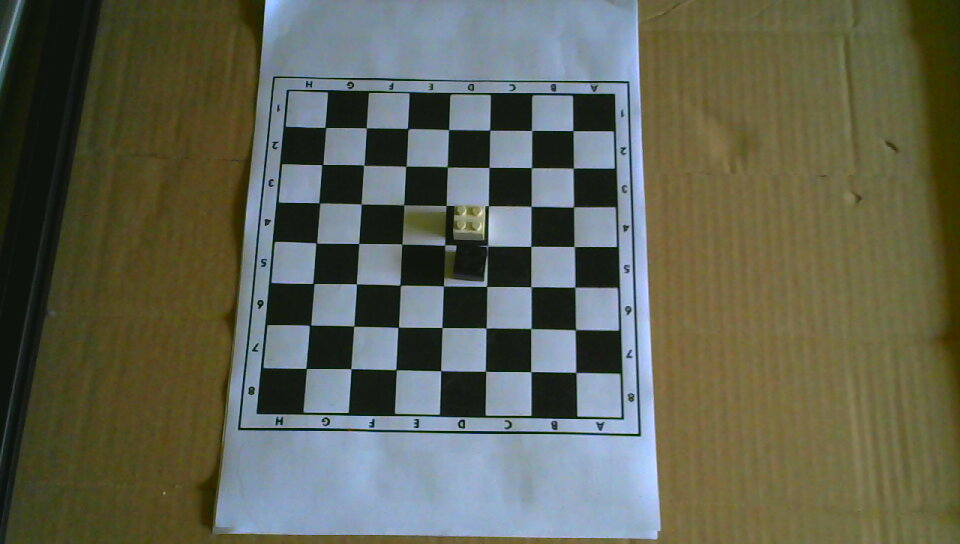bp: (451, 244, 488, 283)
wp: (452, 202, 488, 243)
